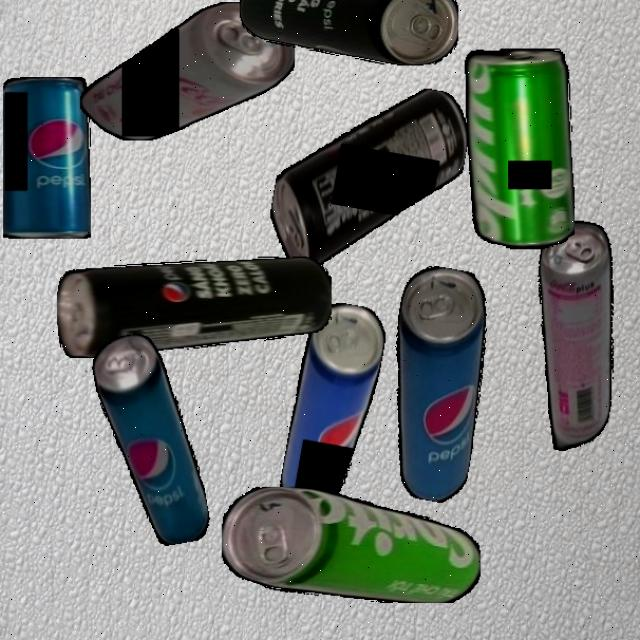debris: (262, 66, 475, 294), (368, 262, 502, 506), (507, 215, 640, 458), (222, 486, 480, 603), (79, 2, 295, 141), (56, 257, 332, 358), (89, 328, 212, 552), (276, 299, 389, 518), (464, 49, 574, 249), (2, 77, 91, 239), (238, 0, 458, 65)
